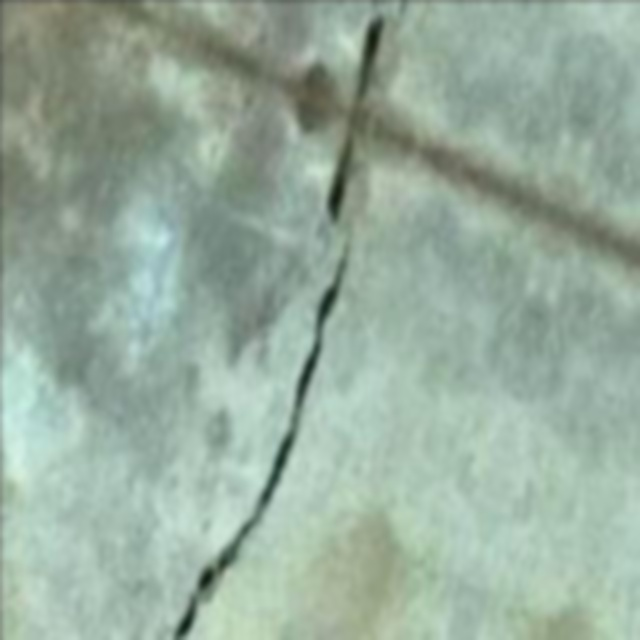SurfaceCrack: (160, 0, 412, 640)
